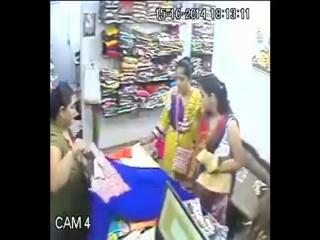Normal: (191, 83, 247, 228), (50, 81, 92, 239), (160, 57, 208, 183)
